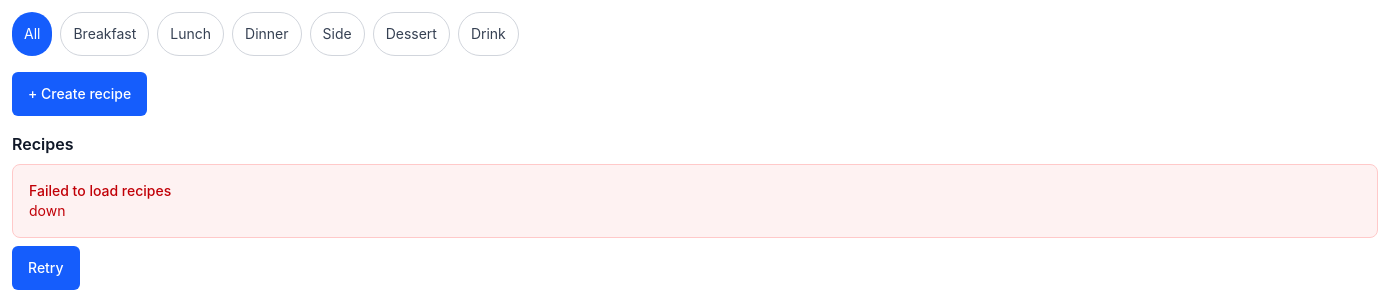
Test: RecipeBox › shows error state with a retry that reloads
Expected: the message "Failed to load recipes down" is shown, [12,164,1377,238]
Click the button "Retry". click: (46, 268)
box: [12,246,80,290]
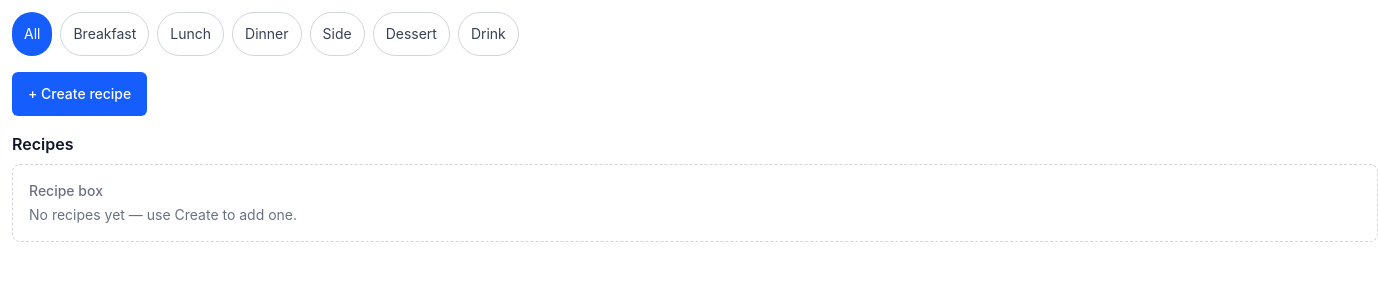
Result: the text "No recipes yet — use Create to add one." is shown at [29,206,297,223]
